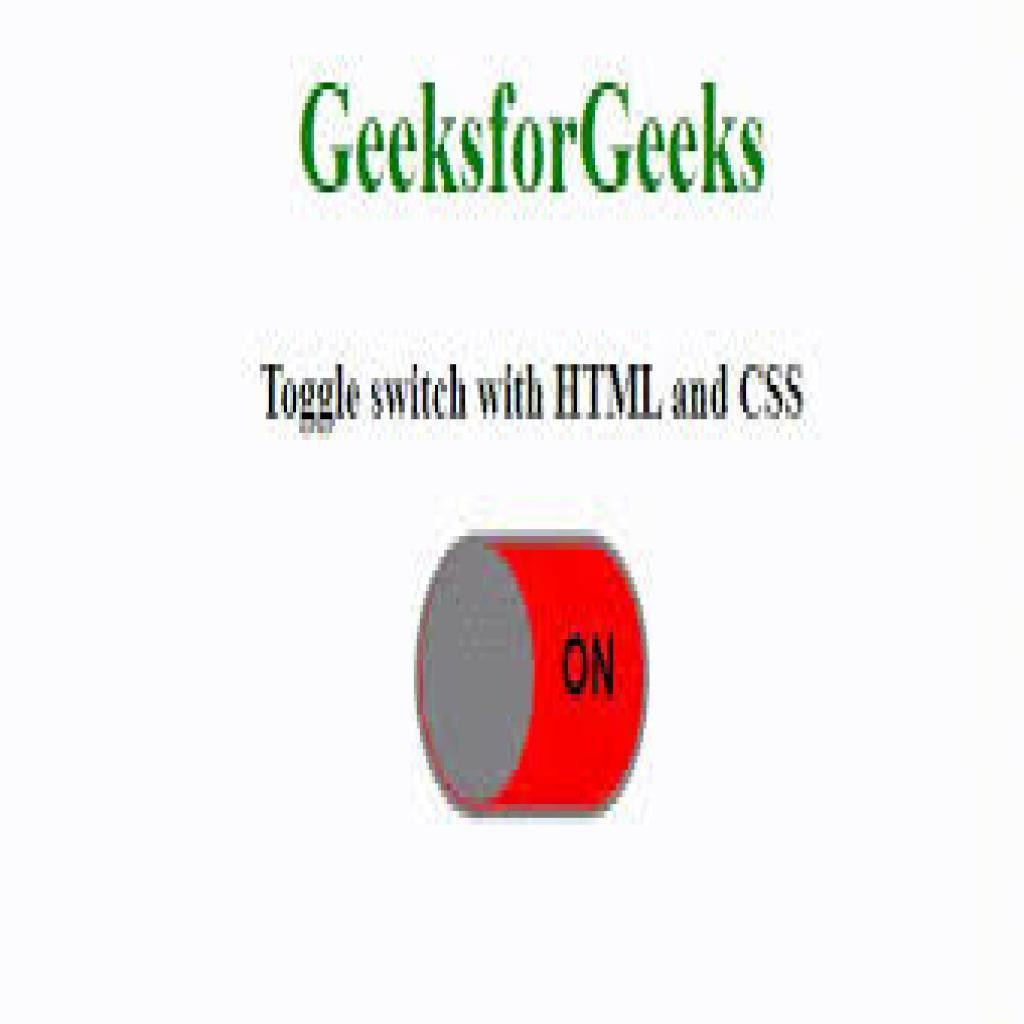switch: (413, 529, 655, 826)
